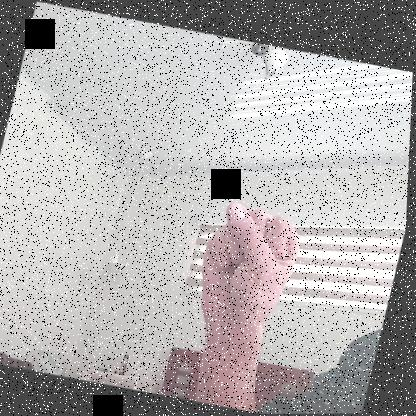S: (192, 199, 309, 336)
